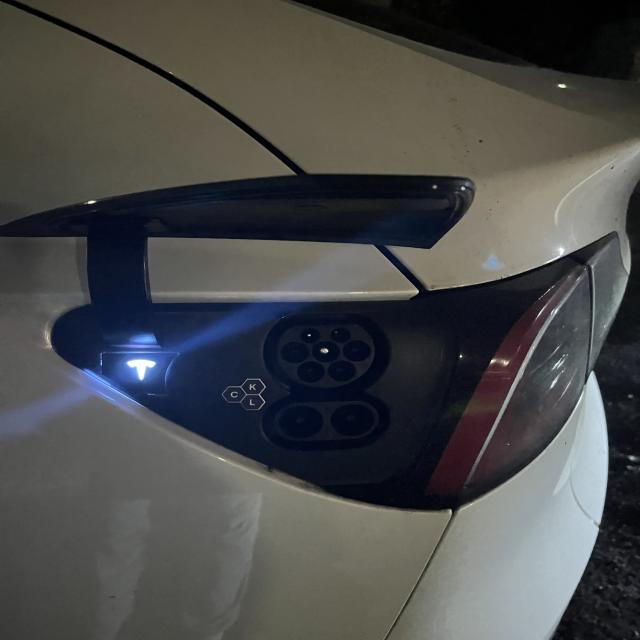inlet: (277, 324, 375, 388)
inlet-above-left: (300, 328, 320, 343)
inlet-above-right: (328, 360, 356, 382), (331, 326, 352, 343)
inlet-below-left: (297, 361, 325, 382)
inlet-circle: (313, 341, 340, 363)
inlet-circle-left: (282, 342, 309, 363)
inlet-circle-right: (343, 340, 371, 362)
inlet-minus: (330, 405, 375, 437)
inlet-plus: (279, 406, 324, 438)
